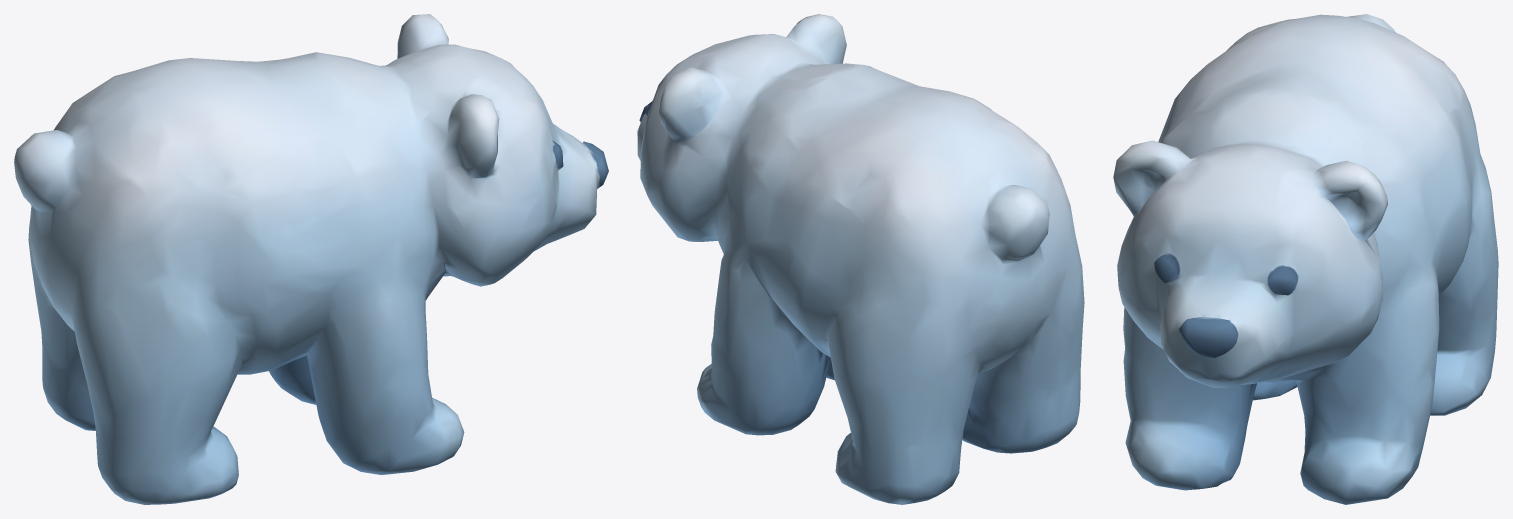
The model's file is ice-bear.glb.
3 renders of one model, left to right at view 1: azimuth 30°, elevation 25°; view 2: azimuth 150°, elevation 25°; view 3: azimuth 270°, elevation 25°, orthographic. The views are drawn at different scales.
Visible parts, largest first — view 1: tripo_node_78fb249f-6a8a-4965-8823-238974996992; view 2: tripo_node_78fb249f-6a8a-4965-8823-238974996992; view 3: tripo_node_78fb249f-6a8a-4965-8823-238974996992.
Part boxes in pixels (x1,y1,x2,y2): tripo_node_78fb249f-6a8a-4965-8823-238974996992: (14,14,608,504); tripo_node_78fb249f-6a8a-4965-8823-238974996992: (637,14,1084,504); tripo_node_78fb249f-6a8a-4965-8823-238974996992: (1113,14,1498,504).
Bounding box in the file's own units: 1.03 × 0.7117 × 0.6664.
1 material, 1 textured.
